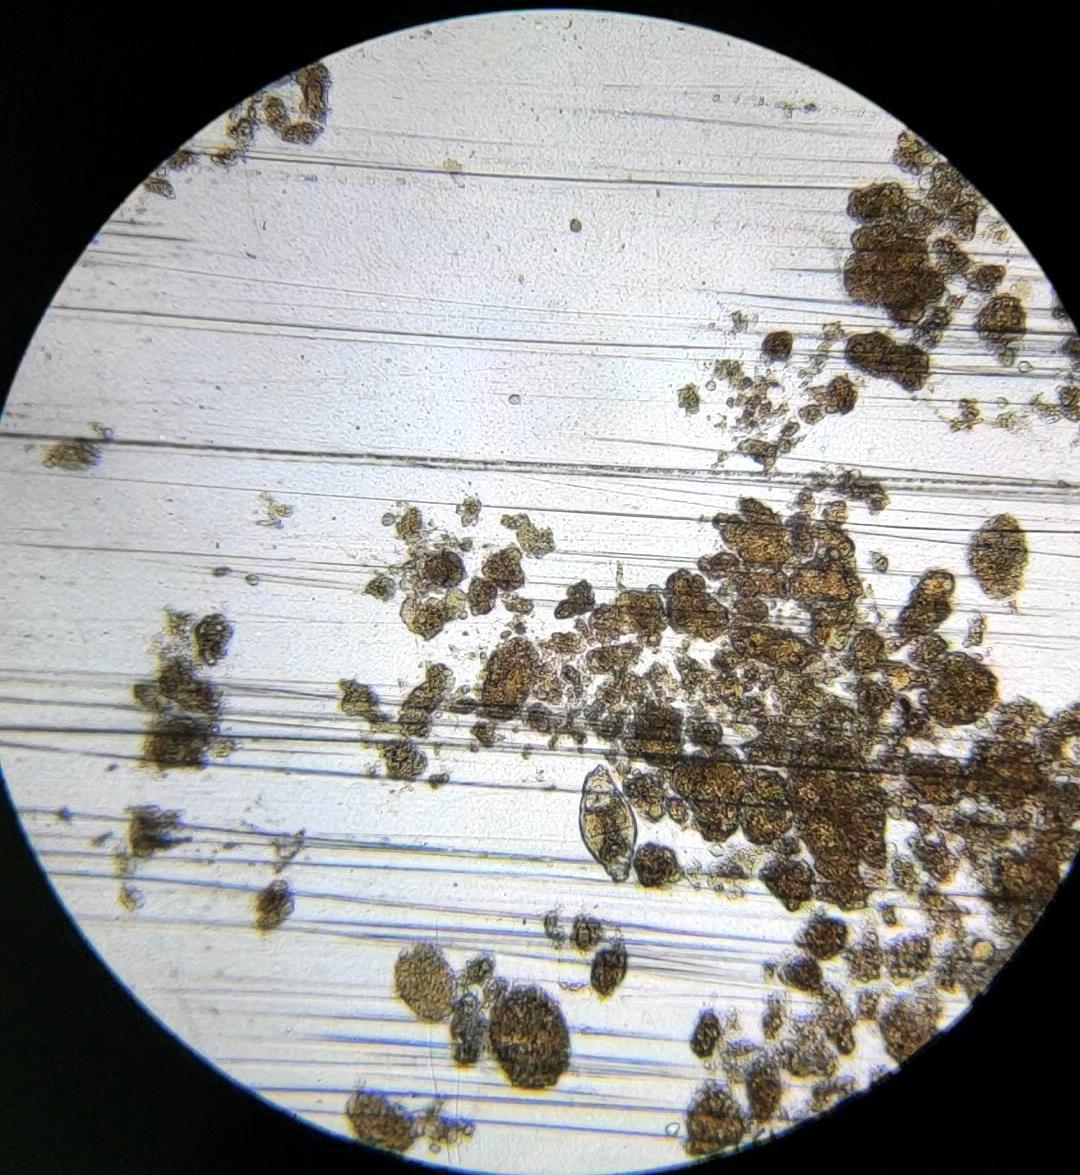Do: (581, 765, 636, 883)
